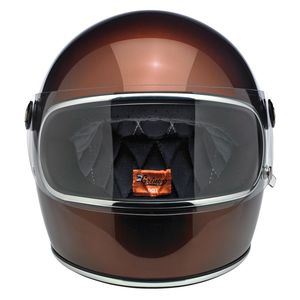with_helmet: (27, 9, 279, 287)
